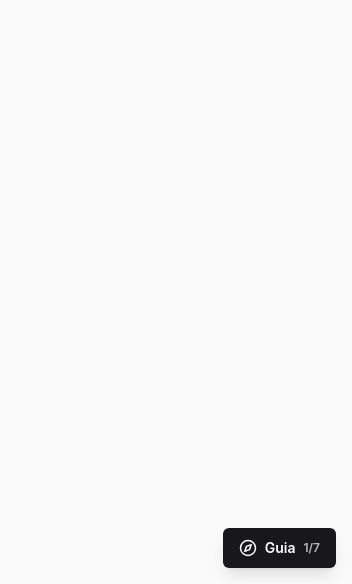
Scenario: MissionChecklist › starts a mission, closes the panel and can hide the guide
Later steps or results of the test are not shown.
What coordinates should you click on to do the following:
click the button "Guia 1/7"
I would click on:
 (279, 548)
Its box is [223,528,336,568].
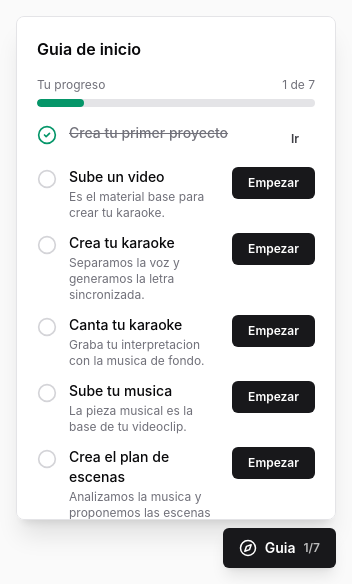
What coordinates should you click on to do the following:
click the button with aria-label "Empezar: Sube un video"
I would click on:
 (274, 183)
Its box is [232,167,315,199].
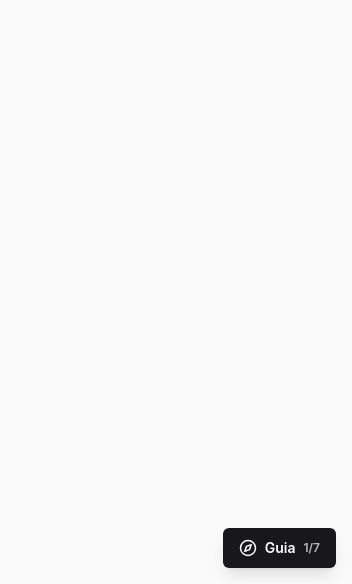
Check: the progress indicator is gone
